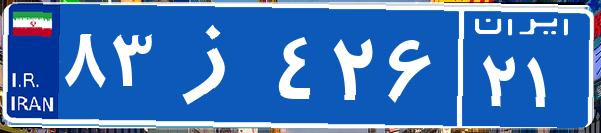1: (525, 38, 570, 115)
2: (330, 28, 385, 110), (475, 38, 525, 113)
3: (110, 28, 158, 105)
4: (273, 28, 330, 110)
6: (385, 28, 445, 110)
8: (57, 26, 110, 107)
ز: (158, 15, 273, 115)
